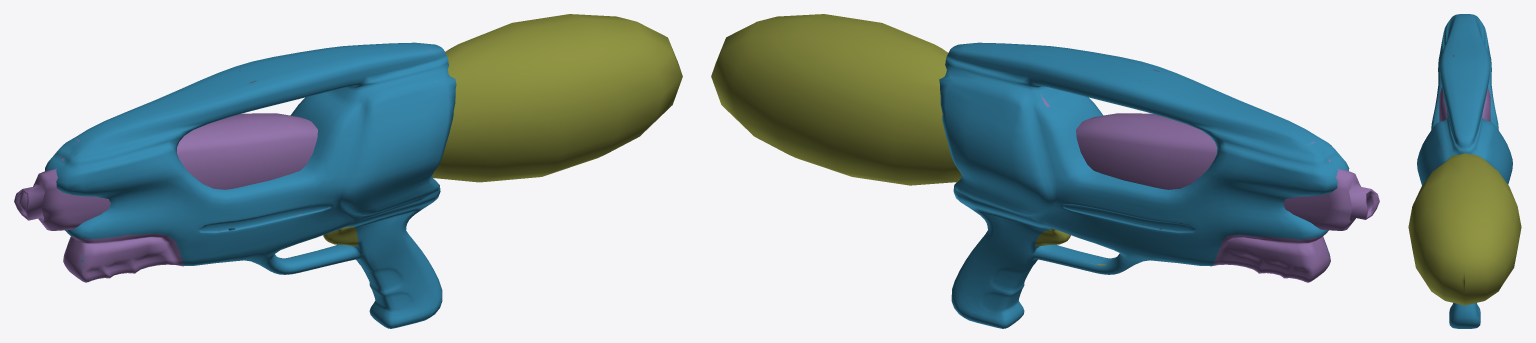
File: Model-Gun.fbx
3 renders of one model, left to right at view 1: azimuth 30°, elevation 25°; view 2: azimuth 150°, elevation 25°; view 3: azimuth 270°, elevation 25°, orthographic. The views are drawn at different scales.
Parts seen in each view (by area): view 1: lowGun; view 2: lowGun; view 3: lowGun.
Boxes of the visible parts, box(x1,y1,x2,y2) form: lowGun: box(14, 14, 682, 328); lowGun: box(711, 14, 1379, 328); lowGun: box(1408, 14, 1521, 328).
Bounding box in the file's own units: 4.95 × 2.04 × 0.9884.
